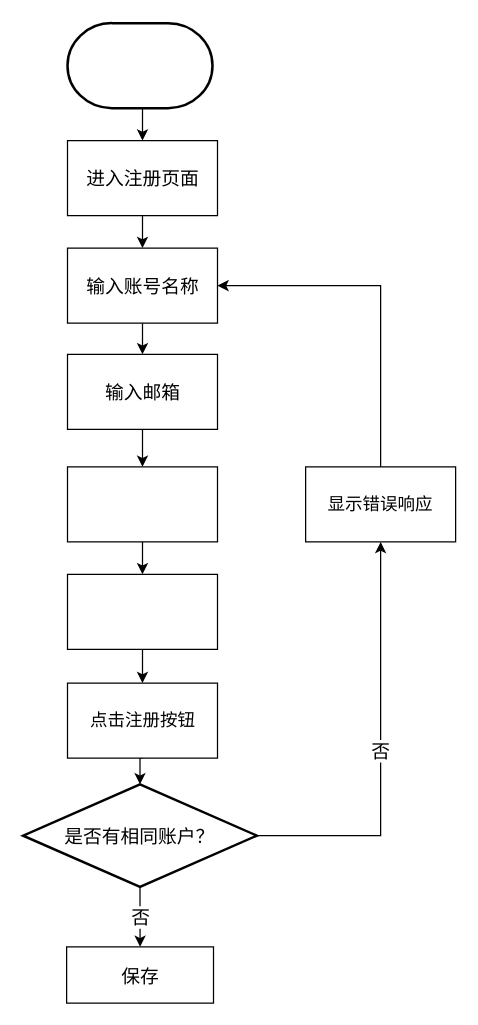
Image size: 478x1025. Some labels were removed from this diagram. Here are the shapes that lost their labels. From the top down, the centre of each, then its label:
pixel 139 65: 开始
pixel 142 504: 输入电话号码
pixel 142 611: 输入账号密码
